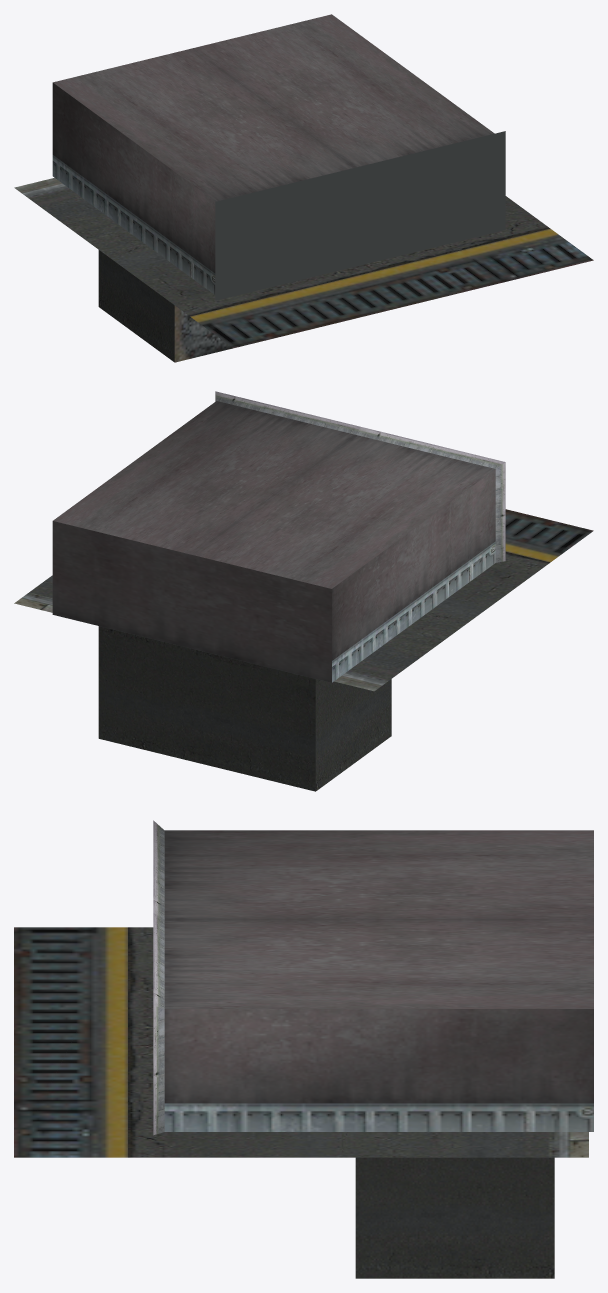
Rendered from Z03_Ham.fbx.
3 views of the same model, one above another, from view 1: azimuth 30°, elevation 25°; view 2: azimuth 150°, elevation 25°; view 3: azimuth 270°, elevation 25° (orthographic). The views are drawn at different scales.
Visible parts, largest first — view 1: Core_Stair_01.001, Ground, Clip; view 2: Core_Stair_01.001, Ground; view 3: Core_Stair_01.001, Ground.
Part boxes in pixels (x1,y1,x2,y2): Core_Stair_01.001: (52, 14, 494, 294); Ground: (14, 178, 593, 362); Clip: (215, 131, 505, 300); Core_Stair_01.001: (52, 391, 505, 682); Ground: (14, 509, 593, 791); Core_Stair_01.001: (153, 820, 593, 1135); Ground: (14, 927, 588, 1278).
Size of the model in its own units: 2.94 by 1.77 by 3.13.
